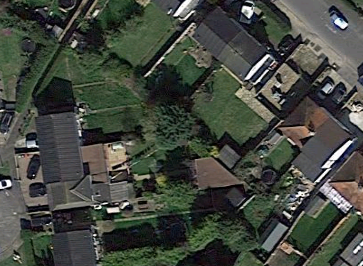tree: (139, 95, 204, 152), (155, 174, 204, 216)
